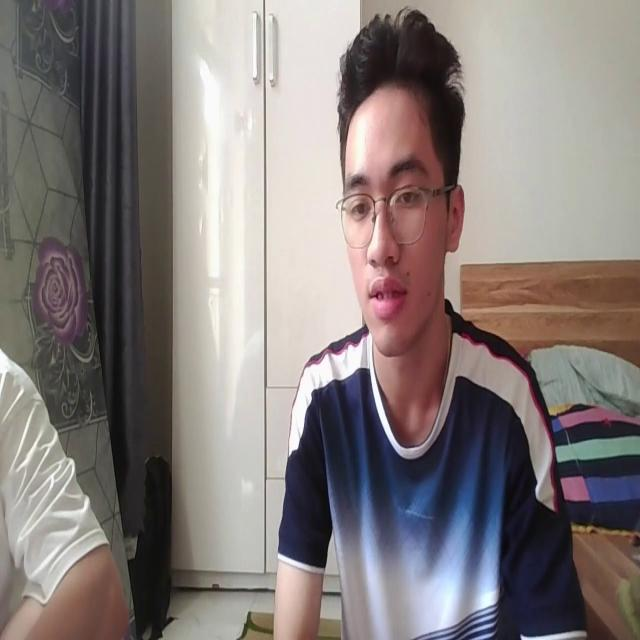extra_person: (0, 341, 131, 640)
student: (274, 6, 586, 640)
